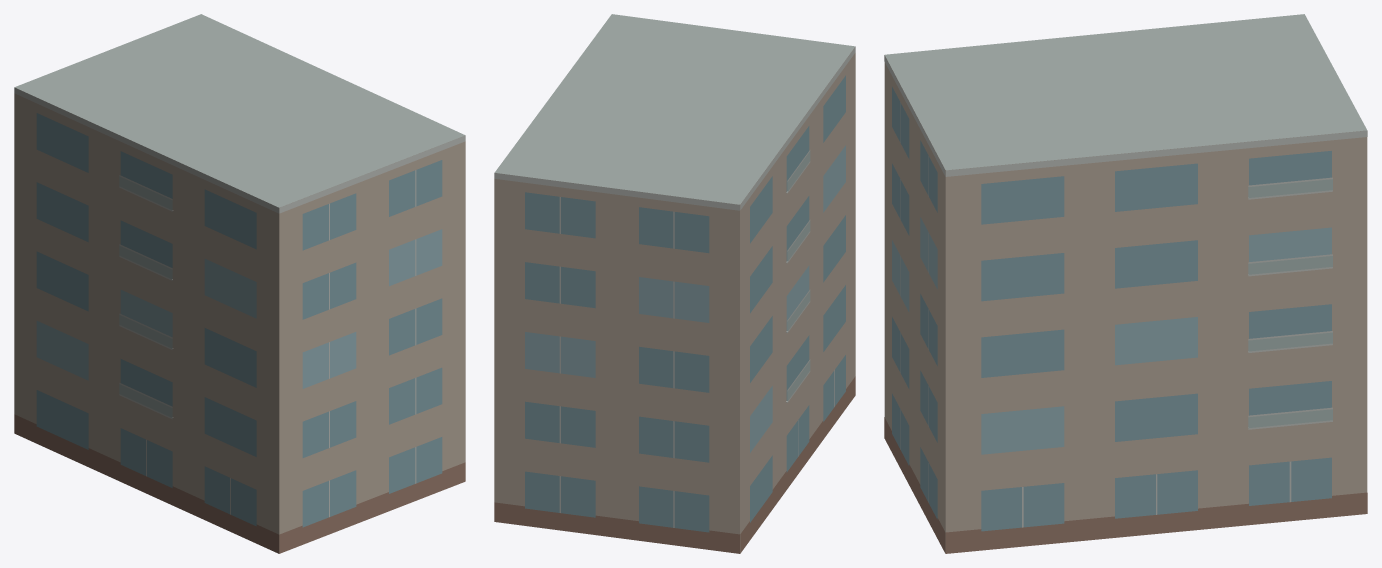
The model's file is survey-upis-32840597.glb.
3 views of the same model, side by side, from view 1: azimuth 30°, elevation 25°; view 2: azimuth 150°, elevation 25°; view 3: azimuth 270°, elevation 25° (orthographic). The views are drawn at different scales.
Parts seen in each view (by area): view 1: survey-upis-32840597.tmp; view 2: survey-upis-32840597.tmp; view 3: survey-upis-32840597.tmp.
Boxes of the visible parts, x1,y1,x2,y2 form: survey-upis-32840597.tmp: [14, 14, 465, 553]; survey-upis-32840597.tmp: [494, 14, 855, 553]; survey-upis-32840597.tmp: [884, 14, 1367, 553].
Size of the model in its own units: 12.43 by 14.2 by 16.22.
